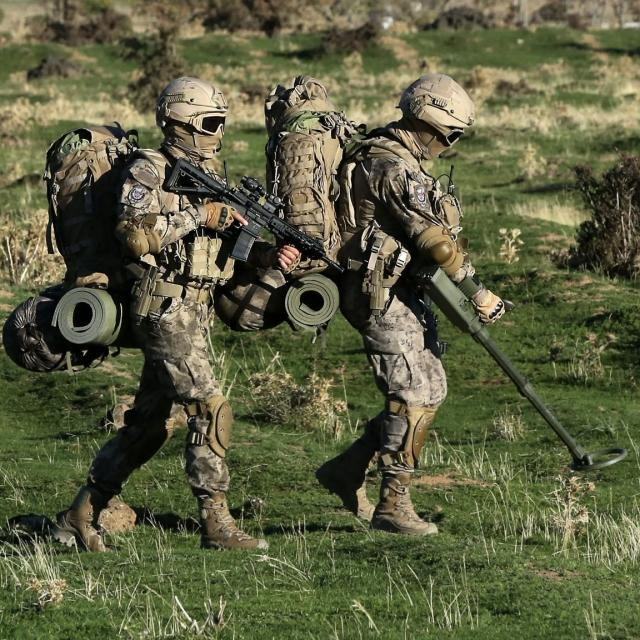poh_personel: (57, 76, 299, 556), (267, 73, 508, 540)
